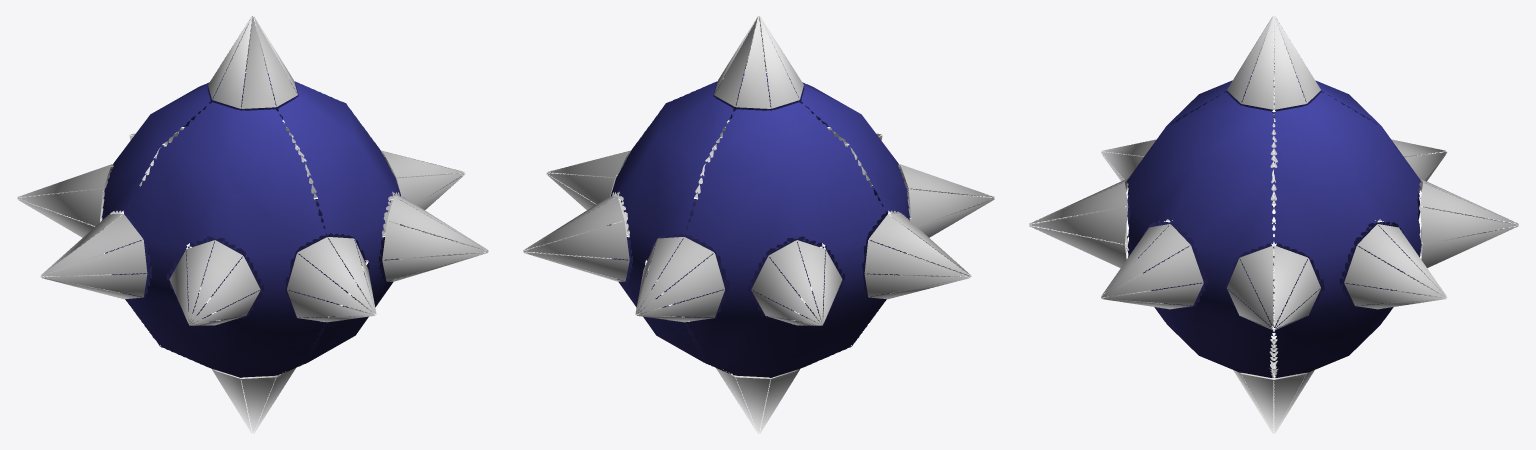
File: NeedleBall.FBX
The picture shows the model from 3 angles, left to right: view 1: azimuth 30°, elevation 25°; view 2: azimuth 150°, elevation 25°; view 3: azimuth 270°, elevation 25°; orthographic projection.
Visible parts, largest first — view 1: Ball; view 2: Ball; view 3: Ball.
Boxes of the visible parts, x1,y1,x2,y2 form: Ball: [17, 16, 488, 433]; Ball: [523, 16, 994, 433]; Ball: [1029, 16, 1518, 433].
Size of the model in its own units: 101 by 94.49 by 101.
